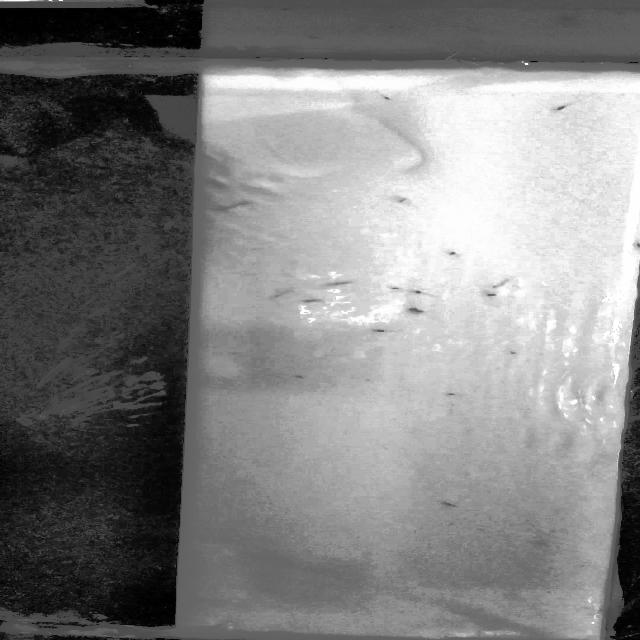shrimp: (481, 276, 522, 290), (549, 100, 583, 114), (407, 286, 439, 299), (399, 304, 432, 316), (298, 294, 331, 306), (367, 89, 396, 102), (321, 279, 368, 287), (368, 325, 402, 336), (506, 345, 525, 364), (439, 500, 464, 513), (445, 250, 471, 262), (390, 196, 420, 206), (290, 376, 322, 385), (448, 388, 466, 402), (476, 290, 504, 298)
